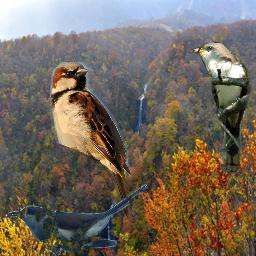Cuckoo: (6, 183, 152, 256), (189, 42, 252, 172)
Swallow: (49, 62, 131, 219)
